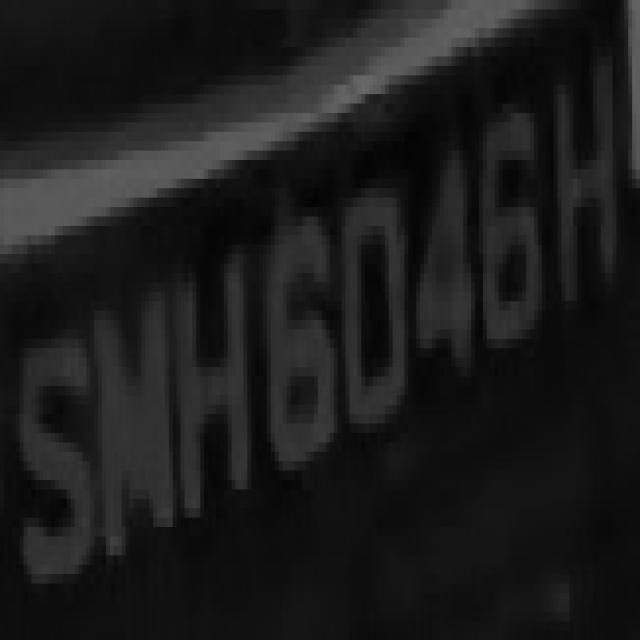0: (334, 198, 412, 442)
4: (397, 151, 471, 433)
6: (467, 85, 558, 367), (263, 198, 338, 518)
H: (169, 245, 243, 564), (542, 38, 628, 292)
M: (90, 292, 177, 574)
S: (8, 320, 94, 612)
